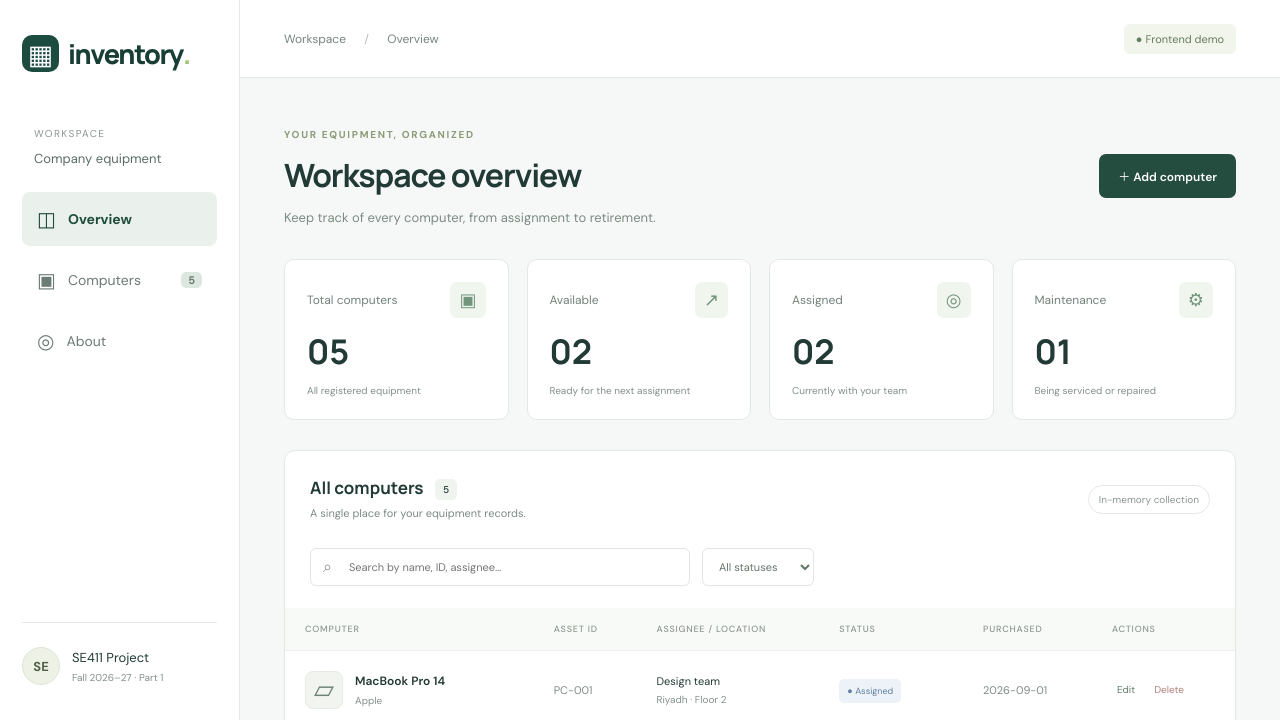
Test: application workflows › provides navigation and three team entries
What coordinates should you click on to do the following:
click the button "◎ About"
I would click on:
 (120, 341)
Its box is [22,314,217,368].
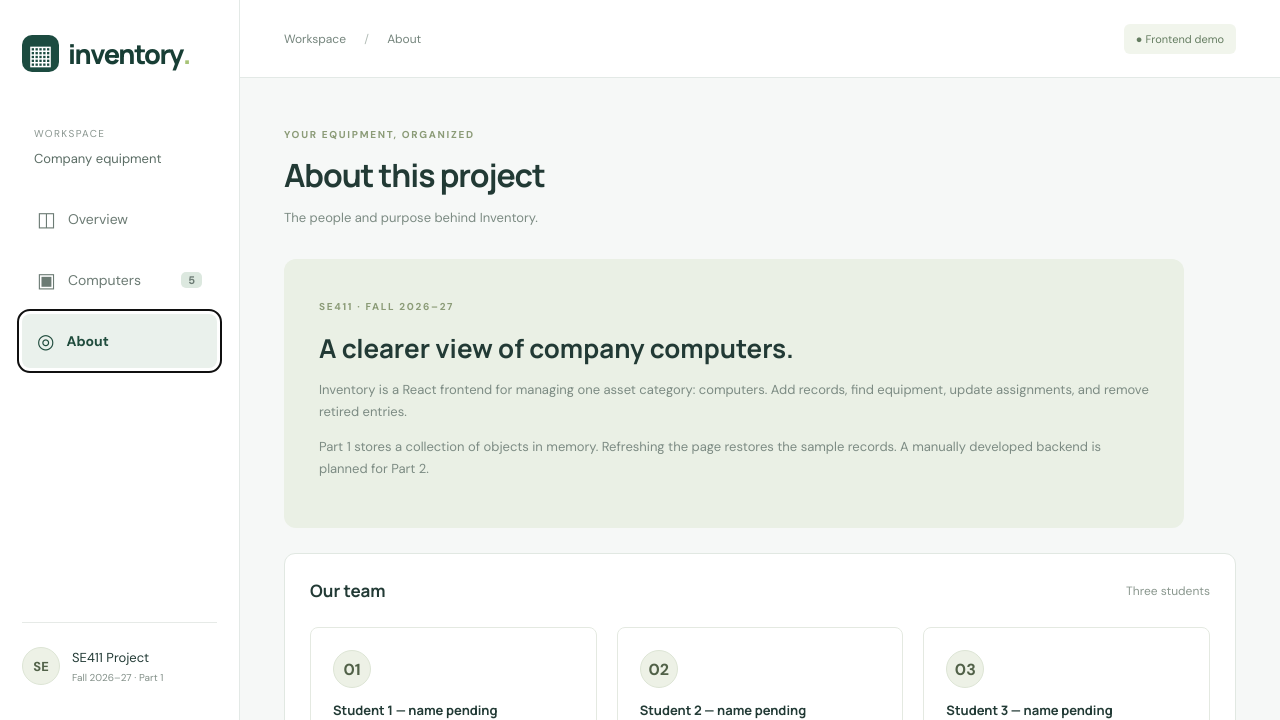
expect the heading "About this project" is shown: met, box [284,153,545,197]
What coordinates should you click on to do the following:
click the button "▣ Computers 5"
I would click on:
 (120, 280)
Its box is [22,253,217,307].
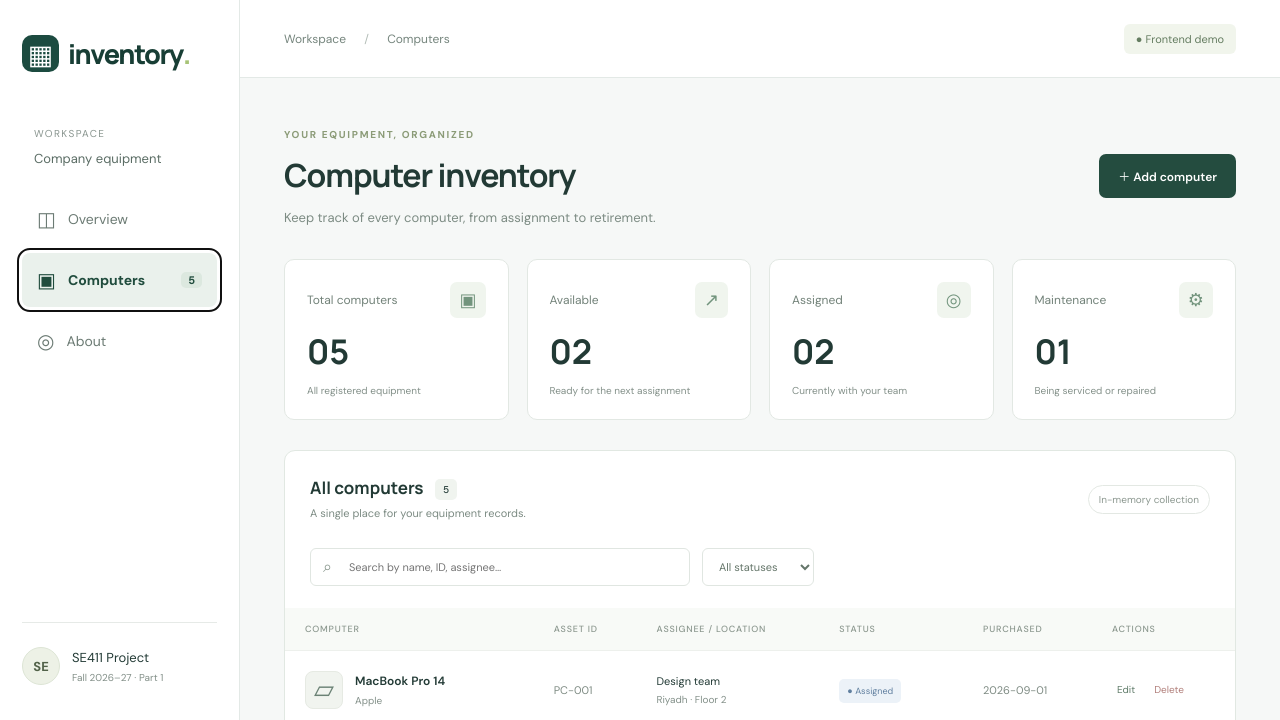
expect the heading "Computer inventory" is shown: met, box [284,153,575,197]
